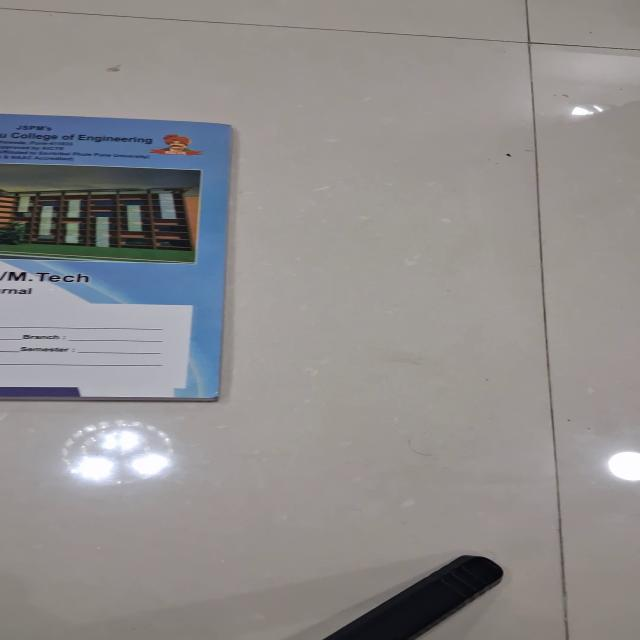paper: (1, 113, 232, 401)
